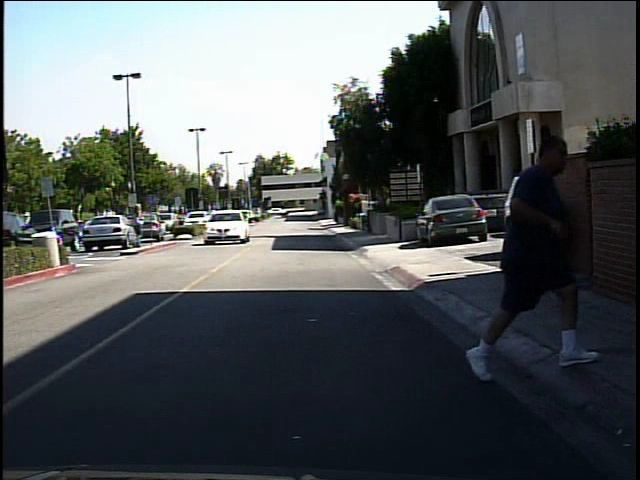person: (482, 119, 588, 383), (126, 200, 149, 249)
